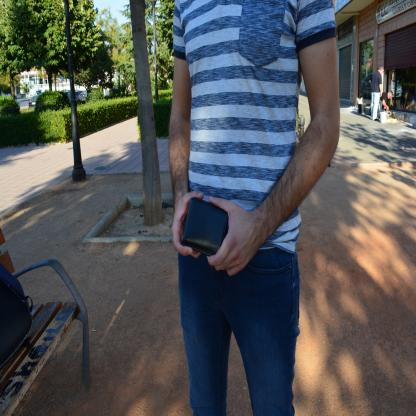monedero: (181, 196, 229, 256)
